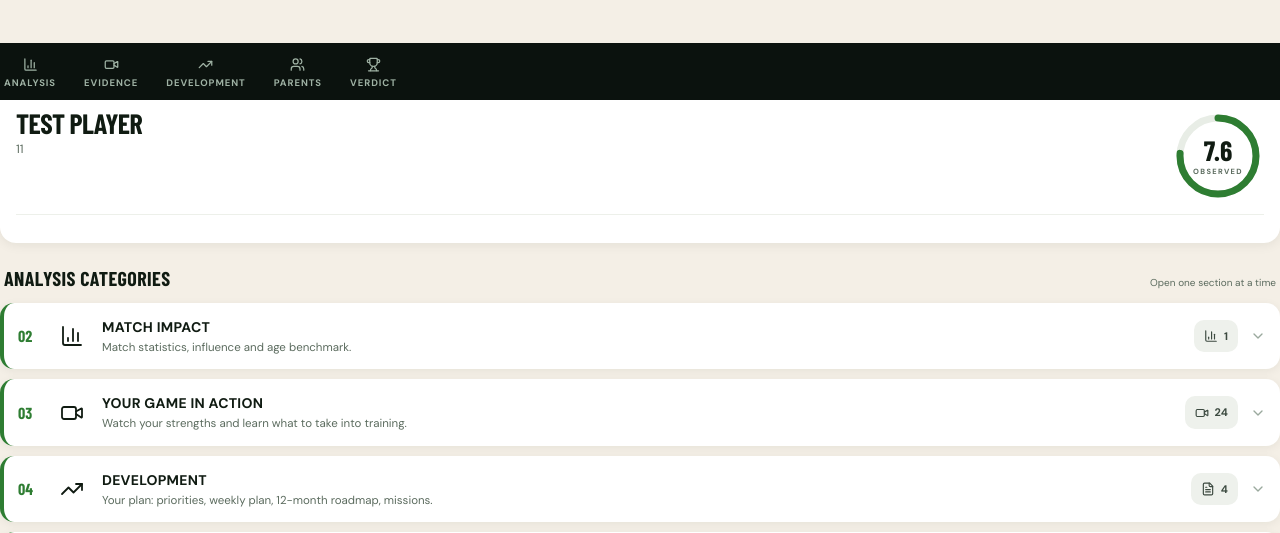
mobile academy bars use the same qualified rubric as desktop and PDF
Step 1. Click the button with test id "pm-cat-impact-toggle" → (156, 327), box [4,303,1279,369]
(page scrolled)
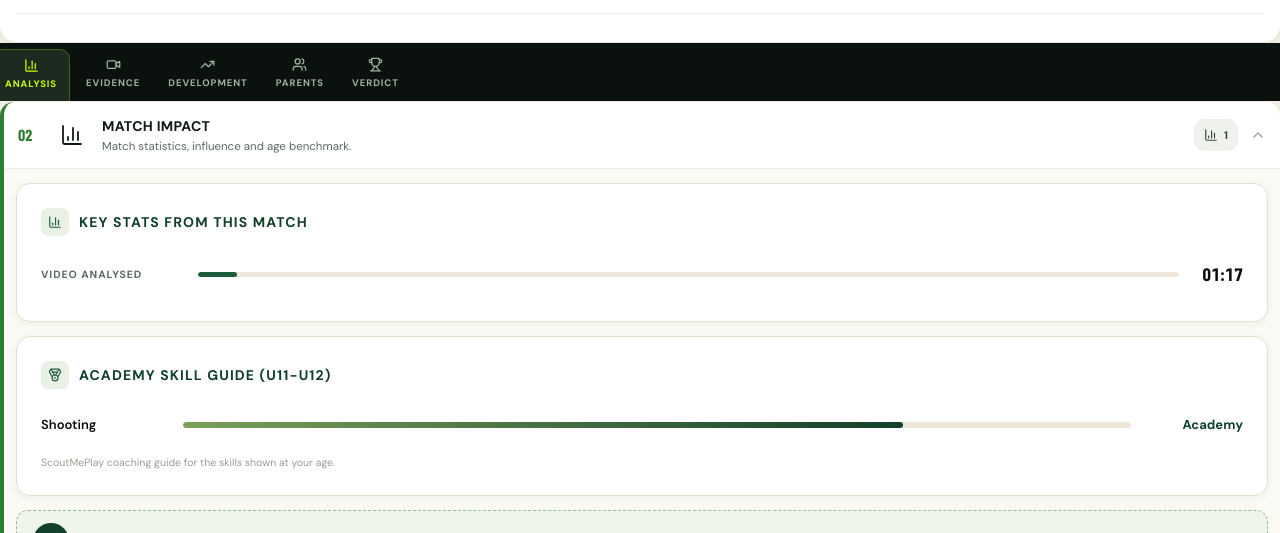
Expected: the element with test id "v2-age-comparison-card" shows "Academy skill guide", [79,366,255,384]
Expected: the element with test id "v2-age-comparison-card" shows "ScoutMePlay coaching guide", [41,456,335,469]
